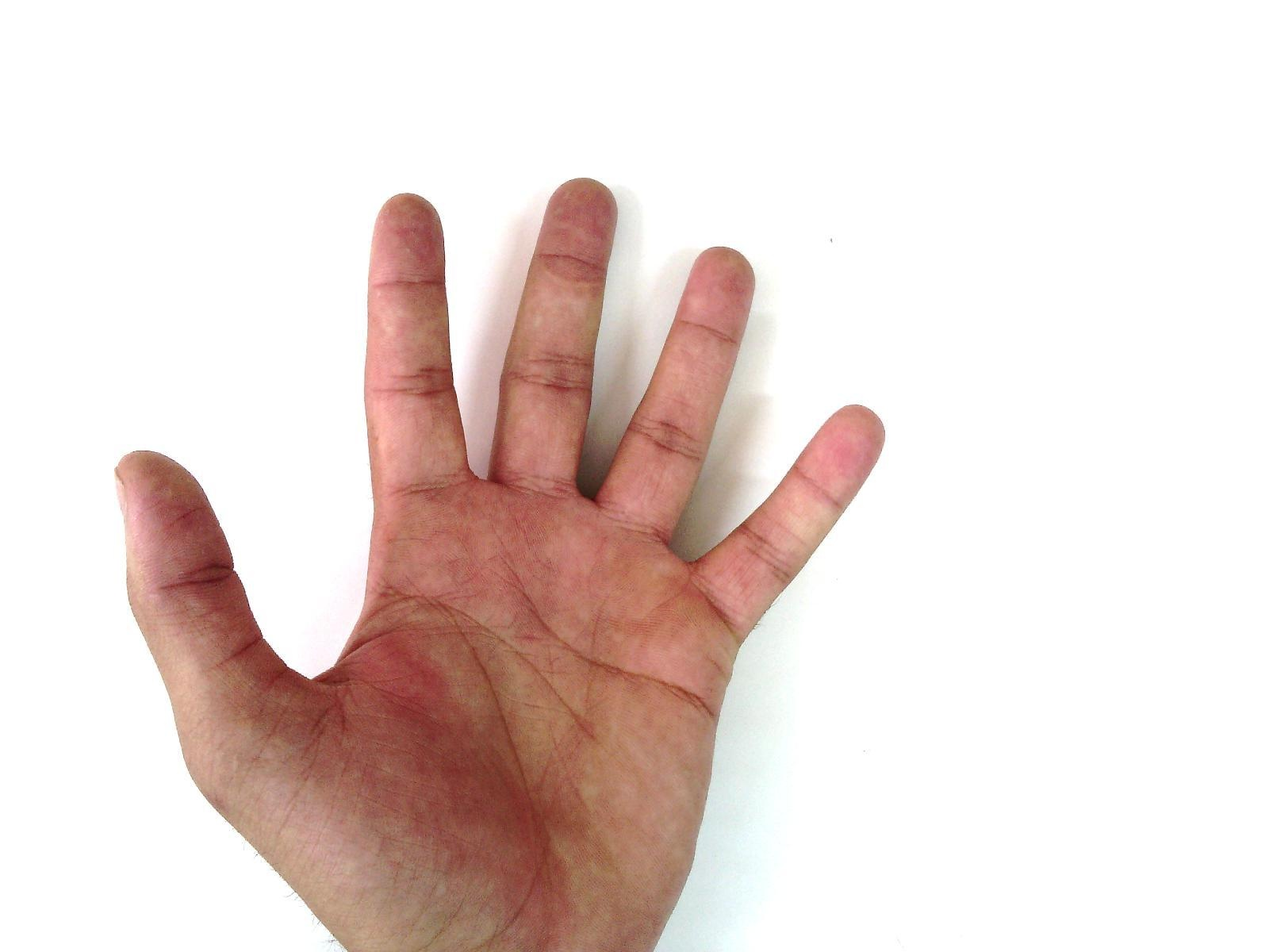open_palm: (113, 176, 889, 952)
